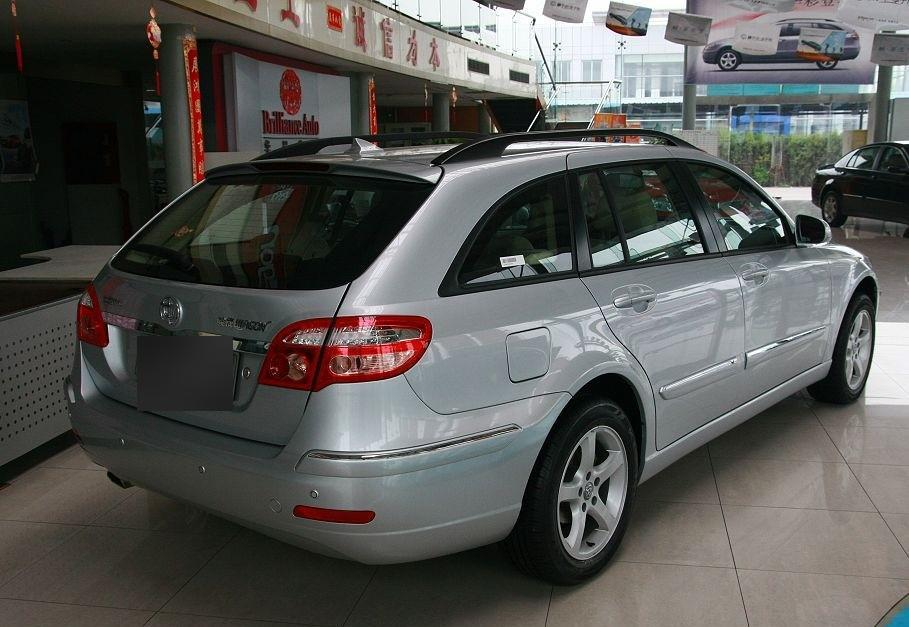Wagon: (62, 127, 879, 586)
